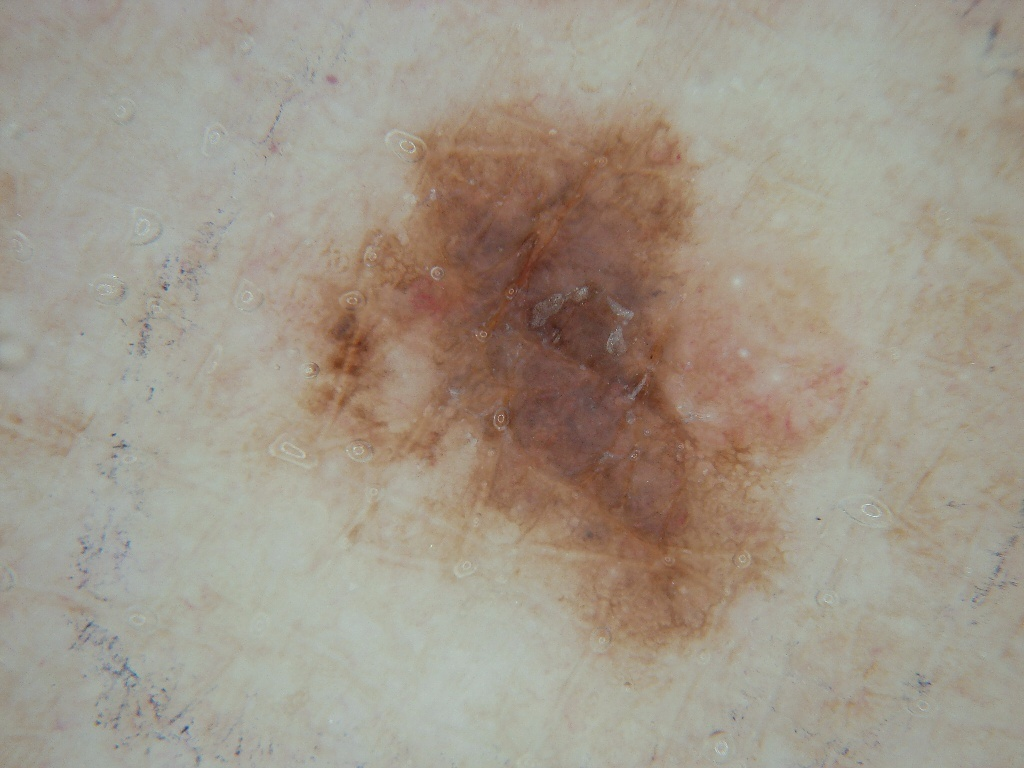Detected Lesion: (262, 88, 875, 672)
